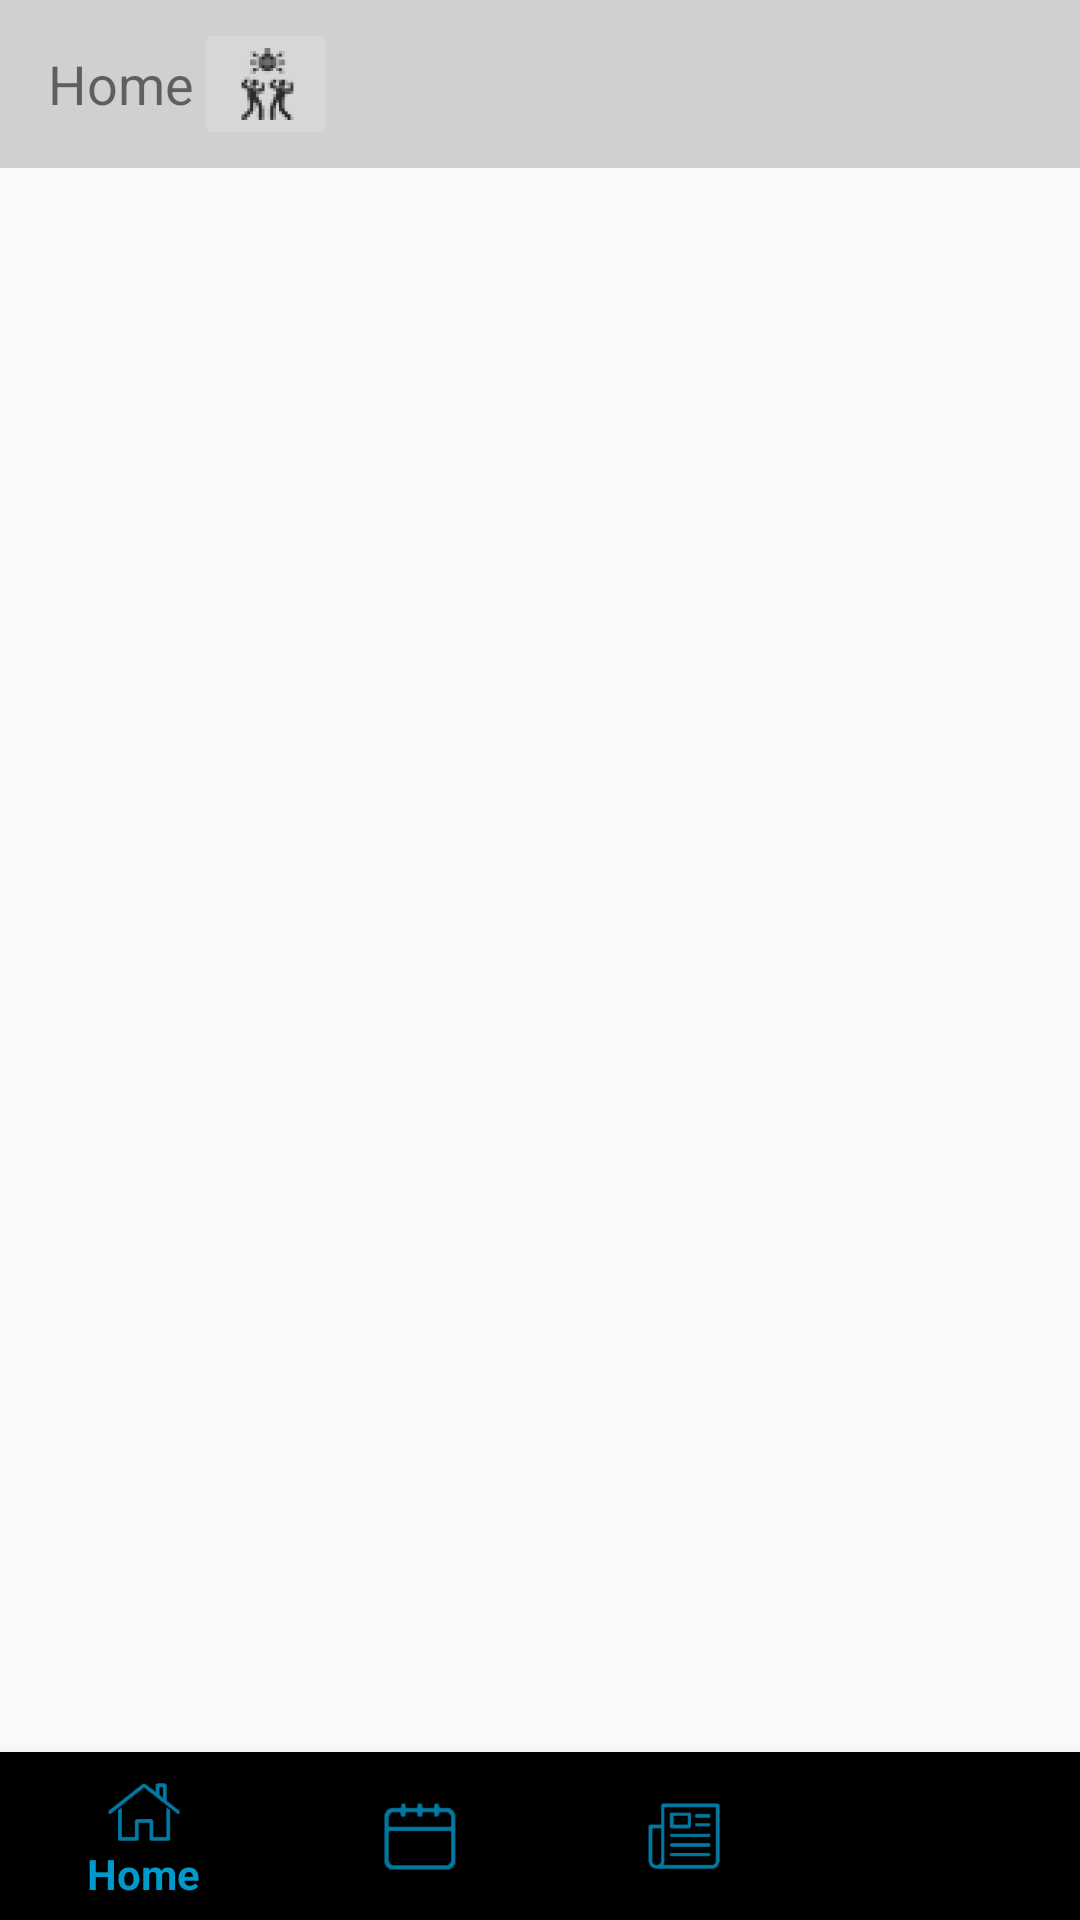

Where to tap for icons on this 1080×1920 app screen, as [x,y]:
rave: [267,84]
